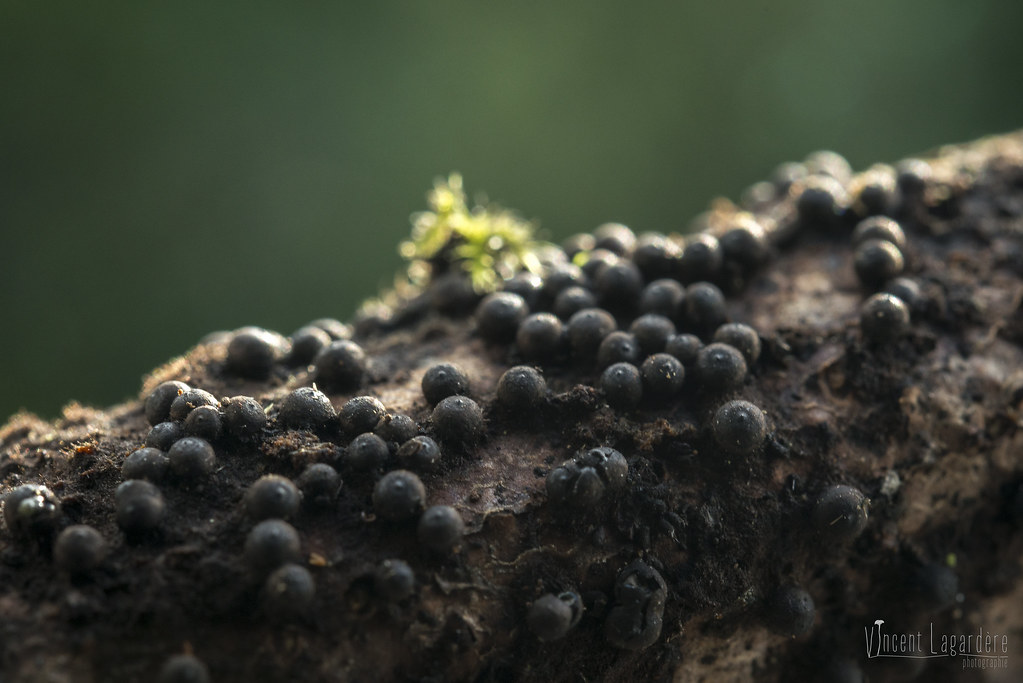pudricion radicular: (35, 276, 980, 615)
